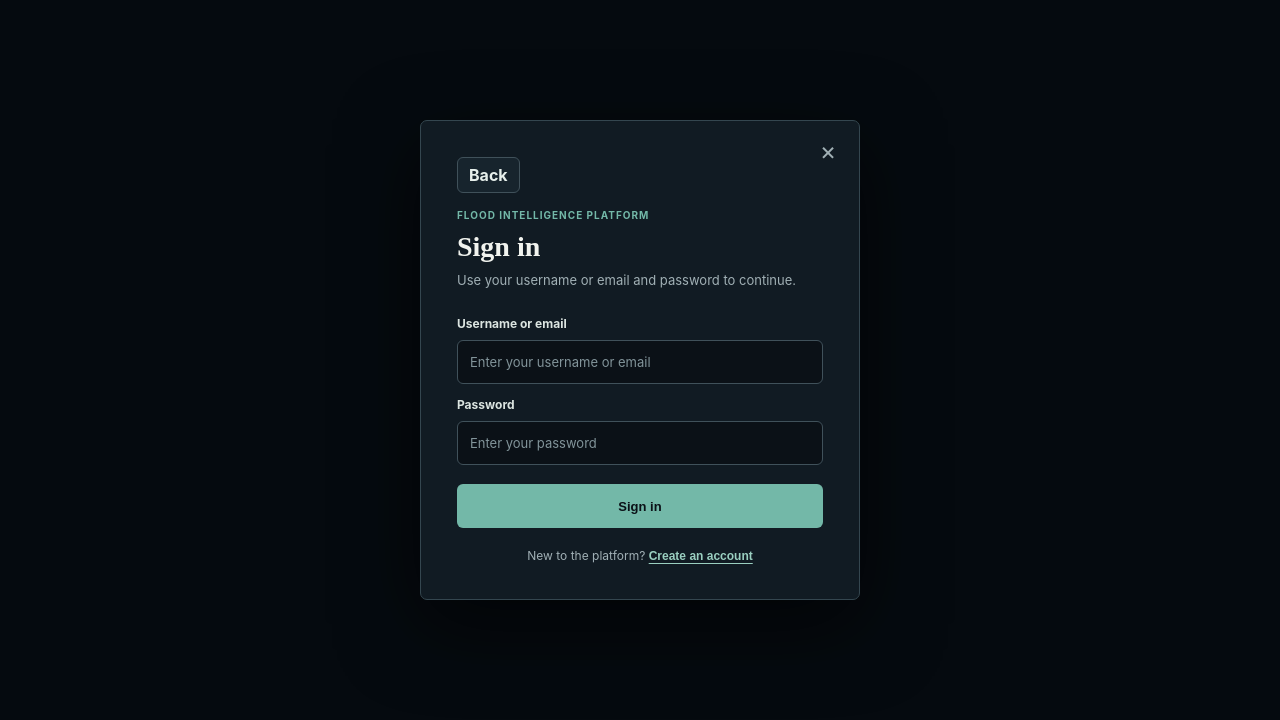
Test: Cognito direct Auth sign-in › reports a Cognito sign-in error accessibly and does not navigate
The width and height of the screenshot is (1280, 720).
Type "member@example.test" into the field labelled "Username or email". click: (640, 362)
box: [457, 340, 823, 384]
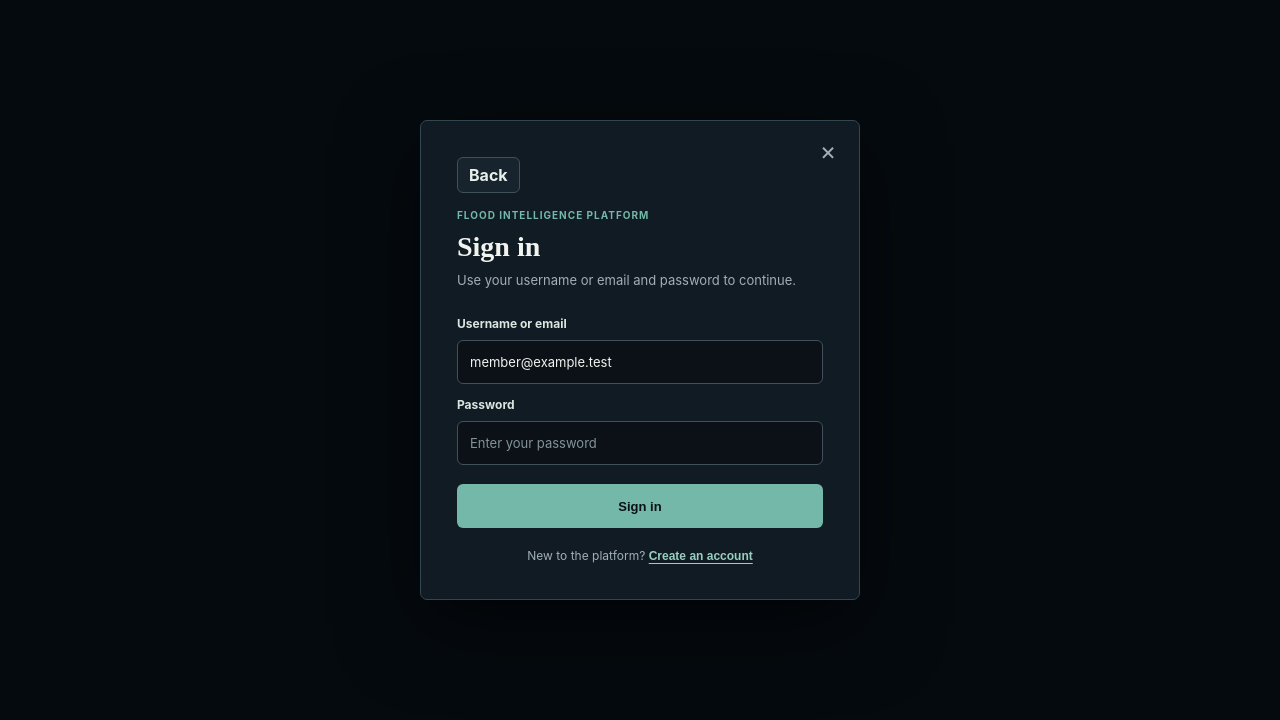
Type "not-a-real-password" into the password field labelled "Password". click: (640, 443)
box: [457, 421, 823, 465]
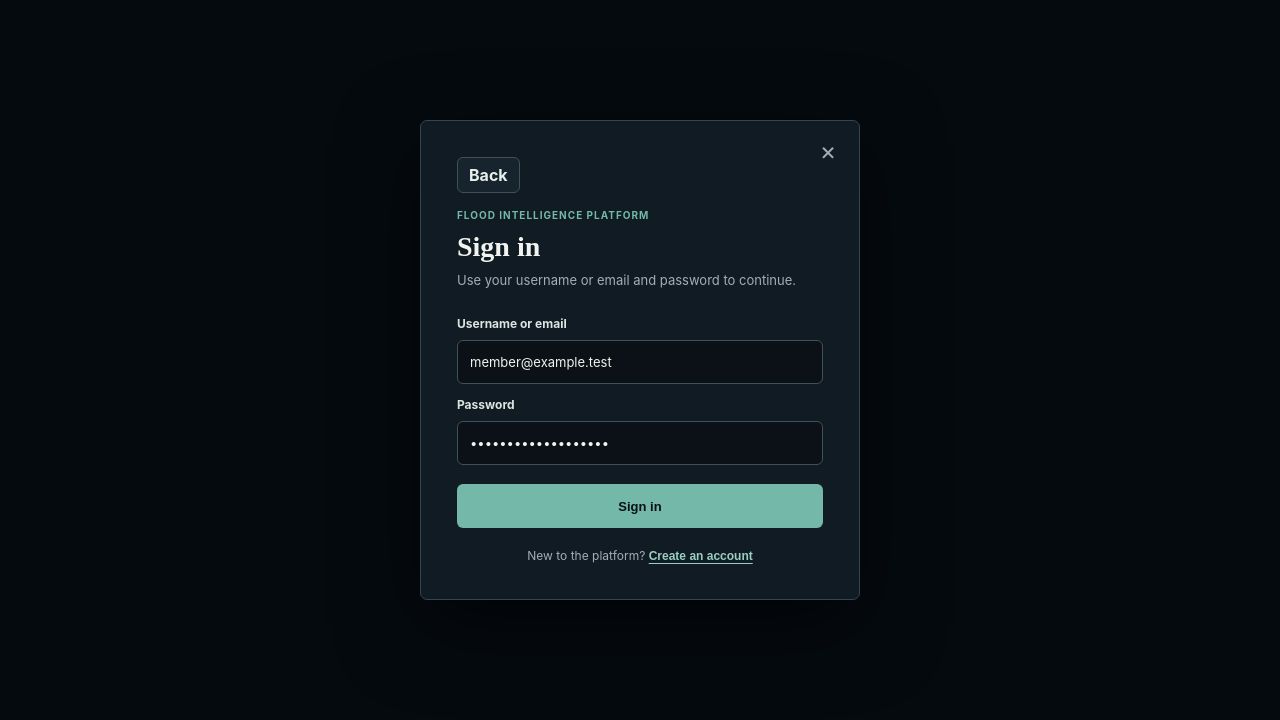
Click the button "Sign in". click: click(640, 506)
box: [457, 484, 823, 528]
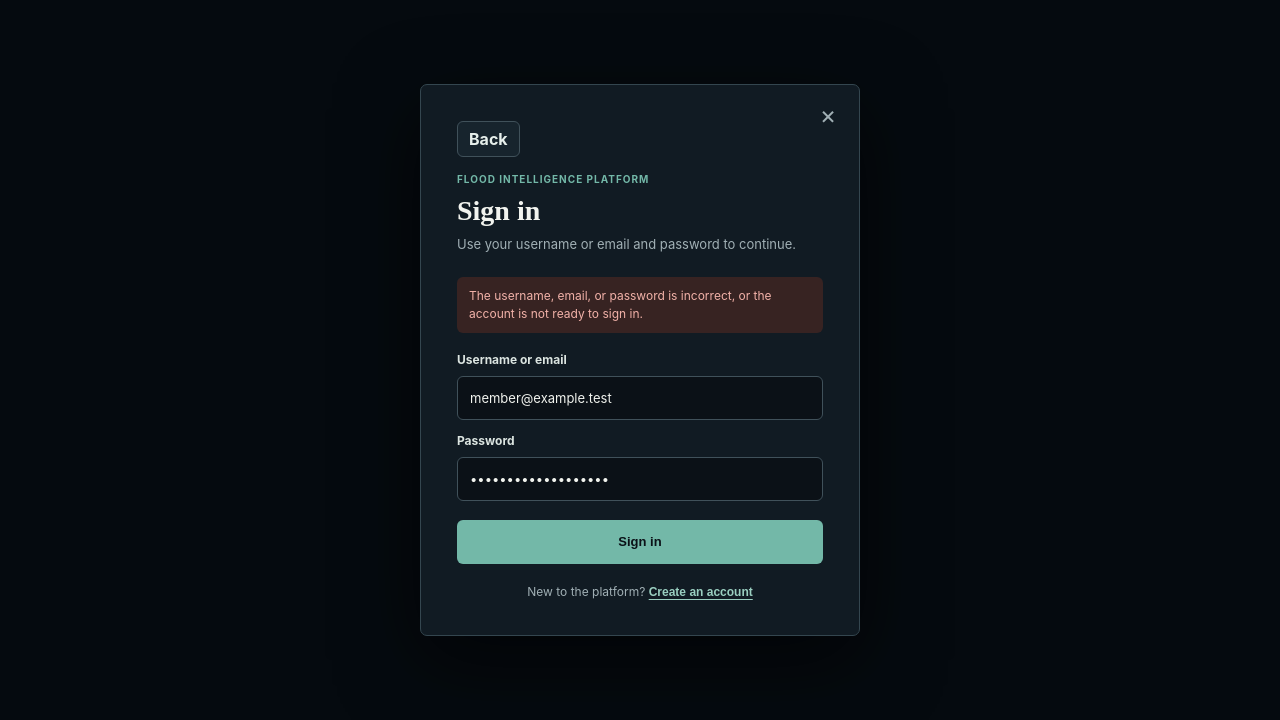
Now the message shows "username, email, or password is incorrect", box [469, 288, 772, 321]
